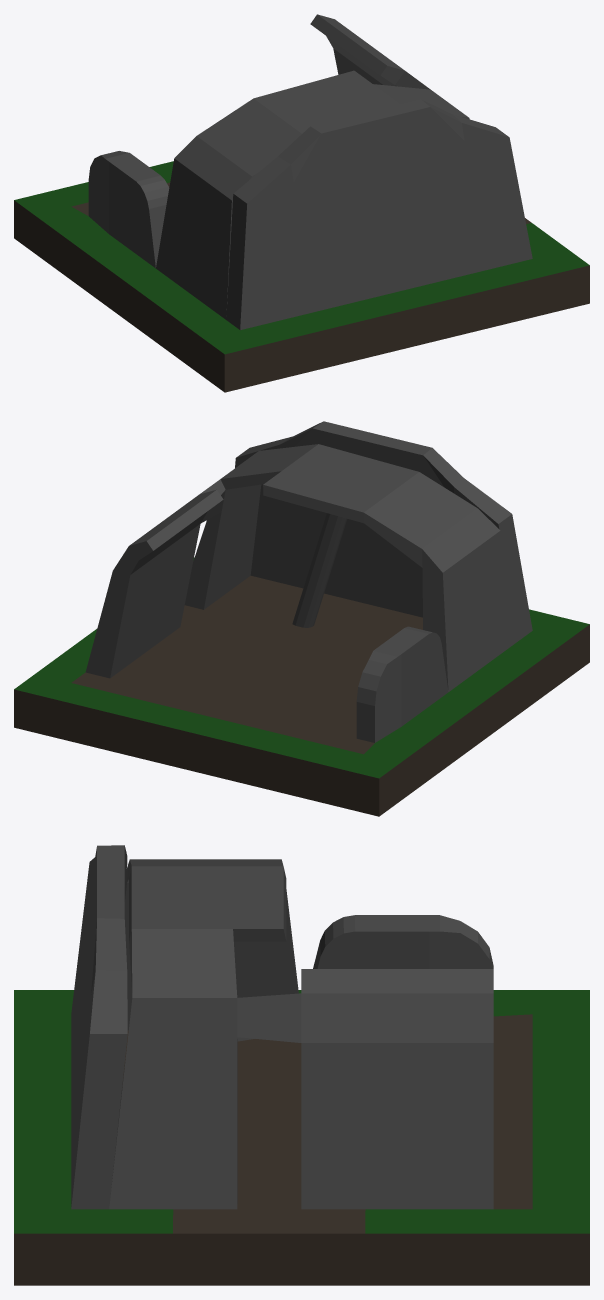
File: RuinsTile.fbx
The picture shows the model from 3 angles, top to bottom: view 1: azimuth 30°, elevation 25°; view 2: azimuth 150°, elevation 25°; view 3: azimuth 270°, elevation 25°; orthographic projection. The views are drawn at different scales.
Parts seen in each view (by area): view 1: Ruins; view 2: Ruins; view 3: Ruins.
Boxes of the visible parts, bbox=[...] form: Ruins: bbox=[14, 14, 589, 392]; Ruins: bbox=[14, 421, 589, 816]; Ruins: bbox=[14, 845, 589, 1285].
Size of the model in its own units: 1000 by 539 by 1000.
